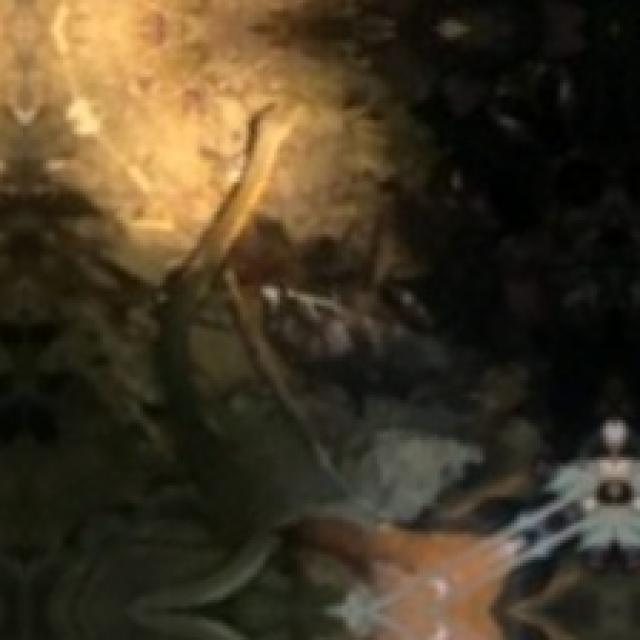king cobra: (158, 106, 296, 492), (129, 530, 279, 640)
